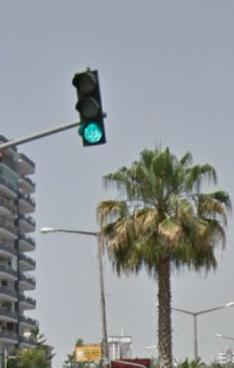greenlight: (72, 68, 111, 147)
